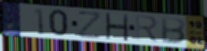0: (49, 9, 70, 37)
1: (33, 8, 46, 36)
B: (160, 16, 187, 46)
H: (104, 12, 130, 42)
R: (134, 14, 161, 45)
Z: (77, 11, 103, 40)
